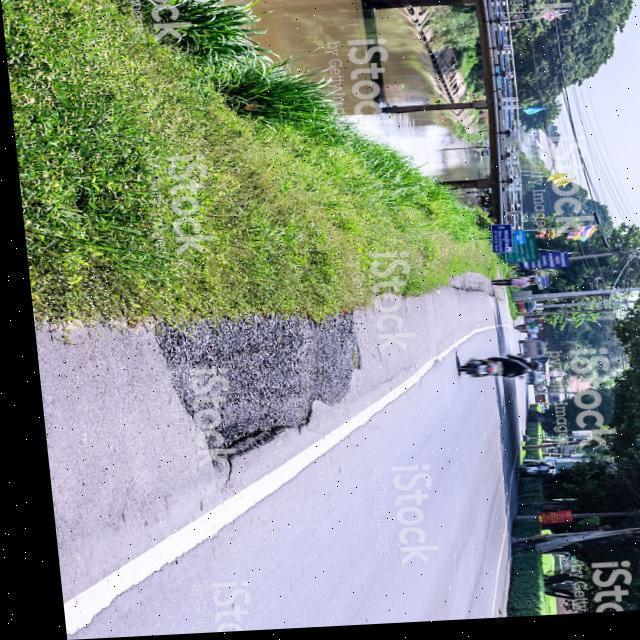Pothole: (156, 314, 359, 461)
